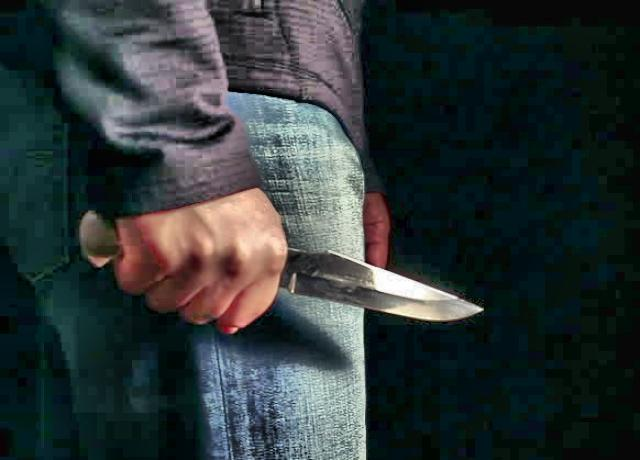knife: (211, 223, 505, 343)
